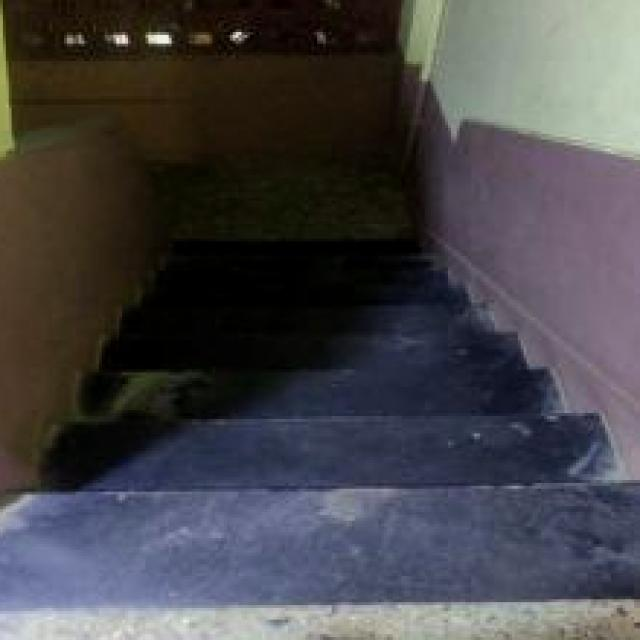downstair: (16, 356, 586, 568)
